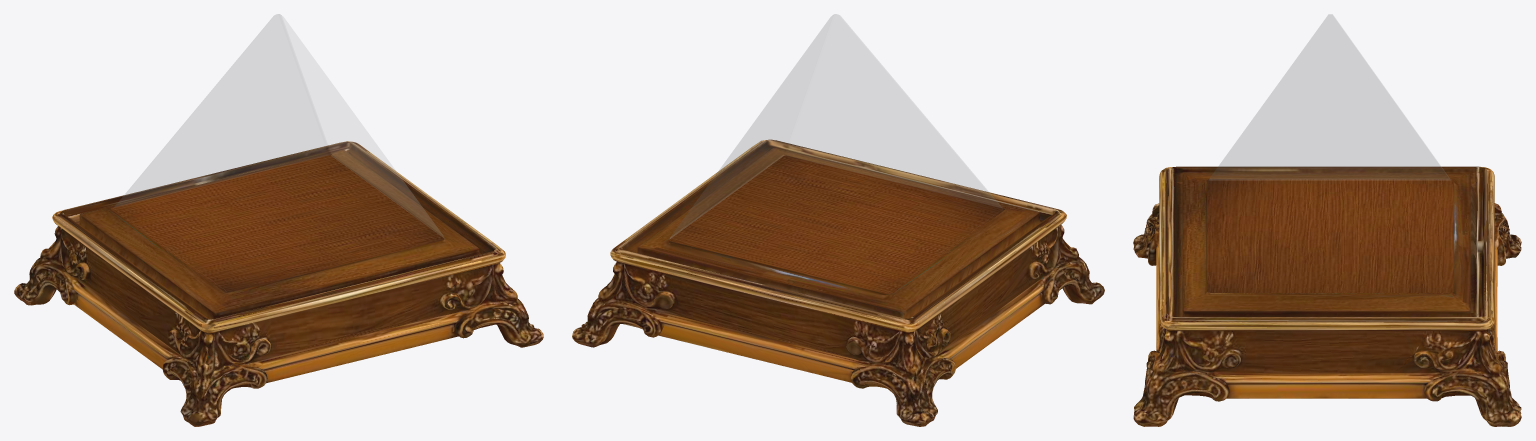
Rendered from prism_animated_2.glb.
3 renders of one model, left to right at view 1: azimuth 30°, elevation 25°; view 2: azimuth 150°, elevation 25°; view 3: azimuth 270°, elevation 25°, orthographic. The views are drawn at different scales.
Parts seen in each view (by area): view 1: body, rotation_part; view 2: body, rotation_part; view 3: body, rotation_part.
Boxes of the visible parts, box(x1,y1,x2,y2) form: body: box(14, 141, 543, 426); rotation_part: box(114, 14, 443, 237); body: box(572, 139, 1104, 426); rotation_part: box(670, 14, 1001, 238); body: box(1133, 166, 1521, 426); rotation_part: box(1209, 14, 1450, 179).
Bounding box in the file's own units: 0.363 × 0.2988 × 0.3252.
2 materials, 1 textured.
